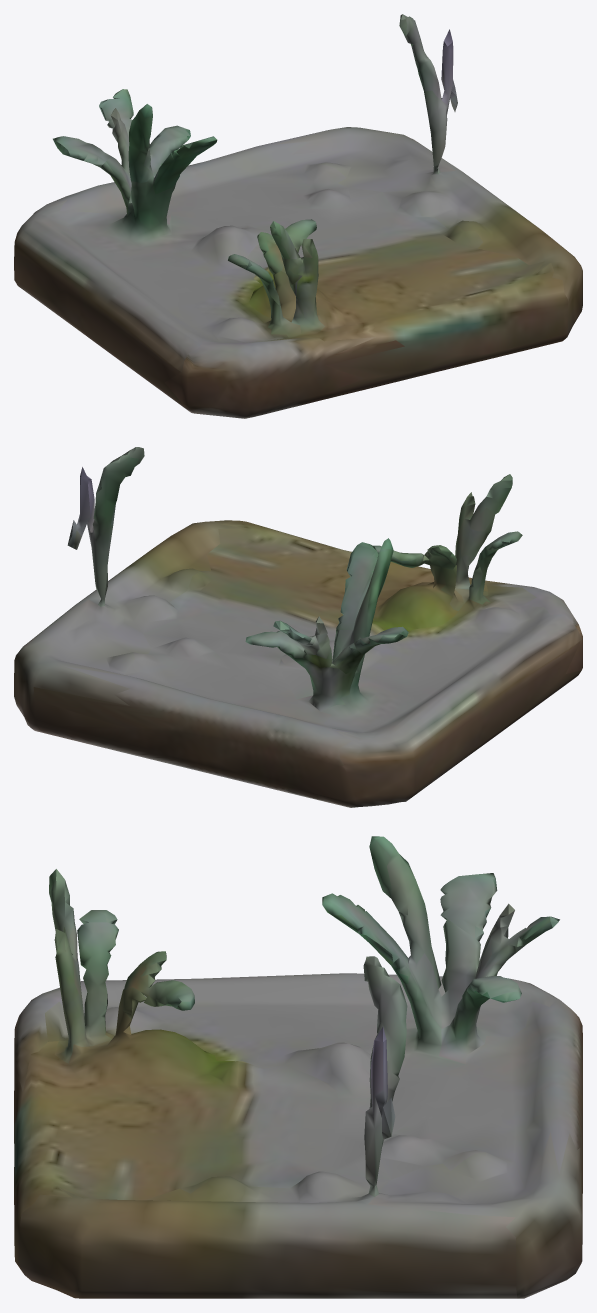
File: s04_lama_juncos.glb
3 renders of one model, top to bottom at view 1: azimuth 30°, elevation 25°; view 2: azimuth 150°, elevation 25°; view 3: azimuth 270°, elevation 25°, orthographic. The views are drawn at different scales.
Parts seen in each view (by area): view 1: s04_lama_juncos; view 2: s04_lama_juncos; view 3: s04_lama_juncos.
Part boxes in pixels (x1=…): s04_lama_juncos: x1=14, y1=14, x2=582, y2=418; s04_lama_juncos: x1=14, y1=447, x2=582, y2=807; s04_lama_juncos: x1=14, y1=836, x2=582, y2=1298.
Bounding box in the file's own units: 1.03 × 0.5812 × 0.9755.
Materials: 1 (1 with a texture image).
